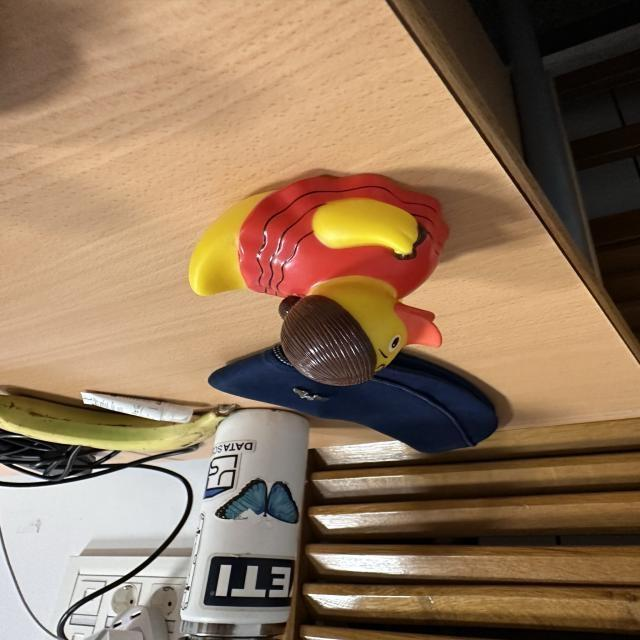rubber-duck: (188, 173, 446, 384)
